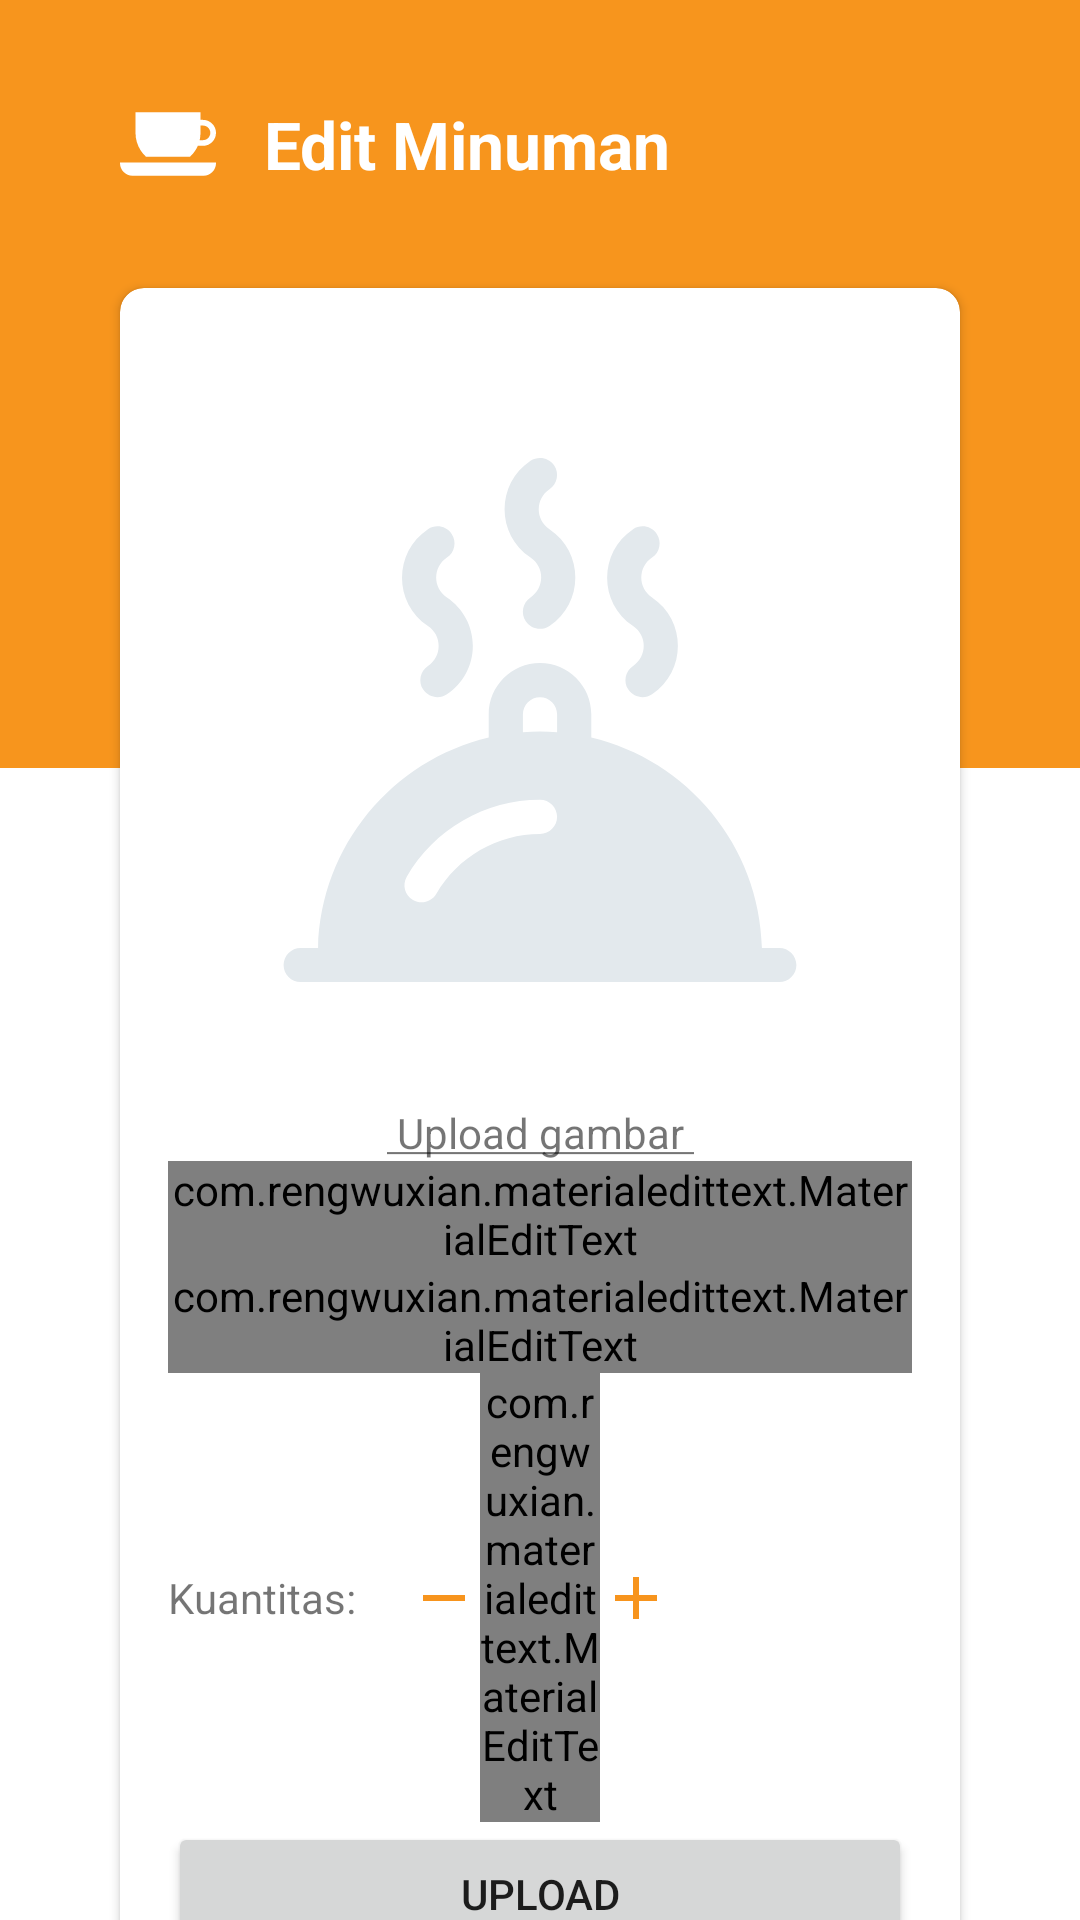

Icons on this 1080px x 1920px Android screen, each with its box as (x1, y1, x2, y2):
edit drink menu: (120, 112, 216, 176)
item food increase: (615, 1577, 657, 1619)
